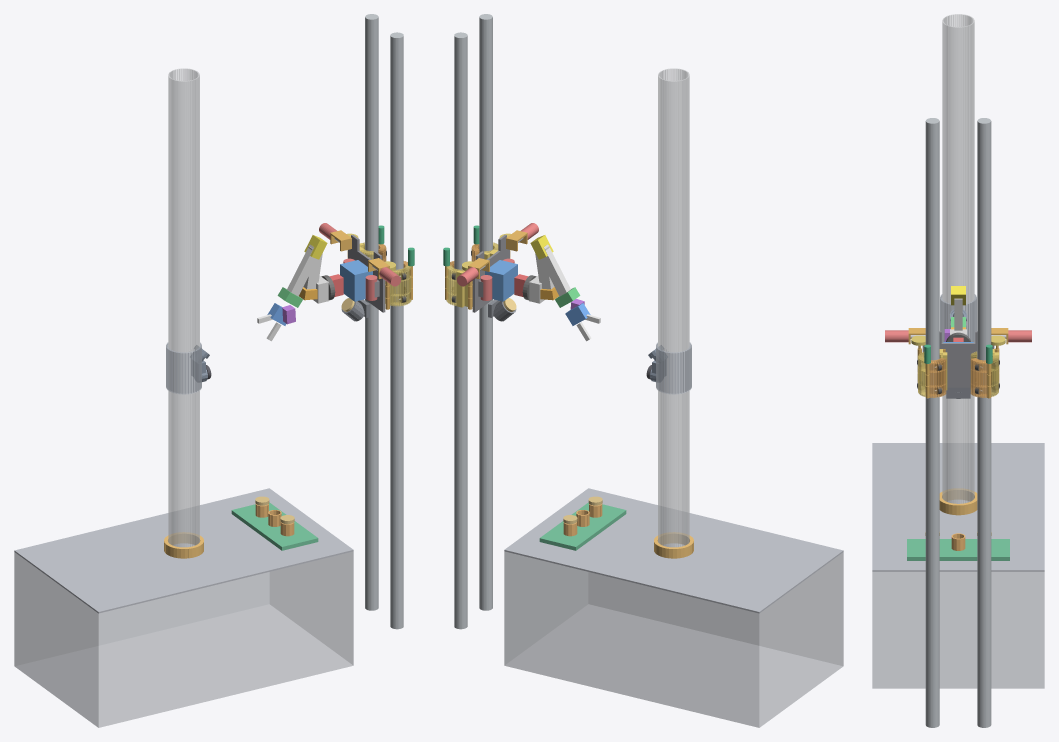
The model's file is transplant-seedling-step3-plug-v3.glb.
The picture shows the model from 3 angles, left to right: view 1: azimuth 30°, elevation 25°; view 2: azimuth 150°, elevation 25°; view 3: azimuth 270°, elevation 25°; orthographic projection. The views are drawn at different scales.
Size of the model in its own units: 0.94 by 1.55 by 0.4.
